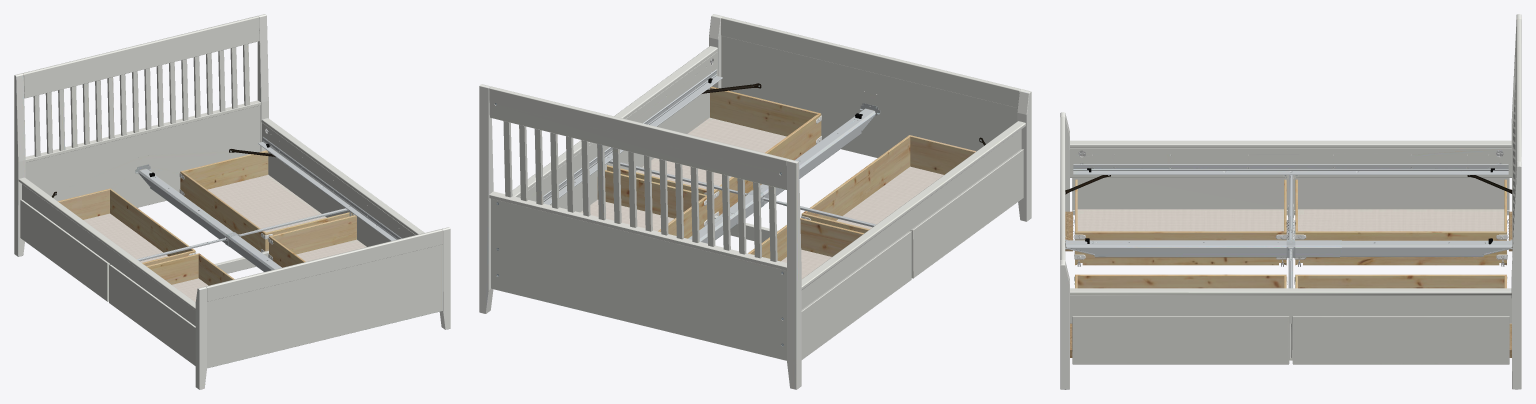
File: IDAN_S_40458884.glb
3 views of the same model, side by side, from view 1: azimuth 30°, elevation 25°; view 2: azimuth 150°, elevation 25°; view 3: azimuth 270°, elevation 25° (orthographic). The views are drawn at different scales.
Parts seen in each view (by area): view 1: model; view 2: model; view 3: model.
Part boxes in pixels (left/top/right/bottom): model: left=14, top=14, right=450, bottom=389; model: left=479, top=14, right=1031, bottom=389; model: left=1060, top=14, right=1521, bottom=389.
Size of the model in its own units: 1.63 by 1.12 by 2.09.
1 material, 1 textured.
